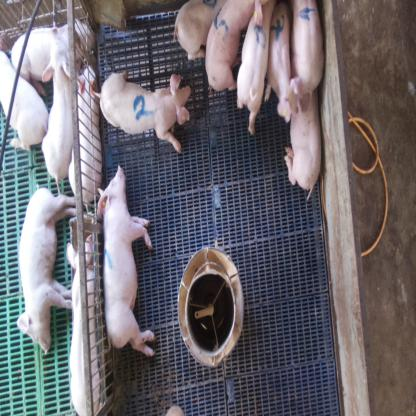1: (296, 7, 317, 22)
2: (133, 95, 155, 123)
5: (214, 8, 228, 45)
7: (269, 15, 285, 43)
N-A: (254, 24, 269, 50)
